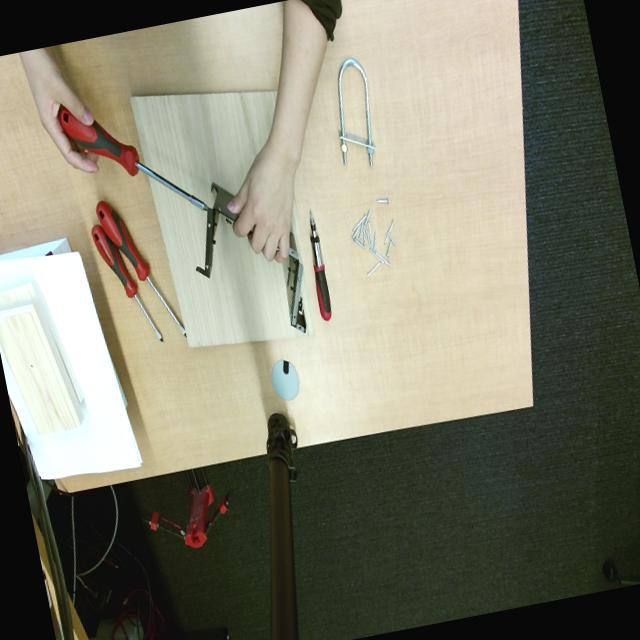screwdriver: (58, 105, 208, 211), (97, 201, 186, 334), (92, 226, 163, 341), (310, 213, 332, 321)
